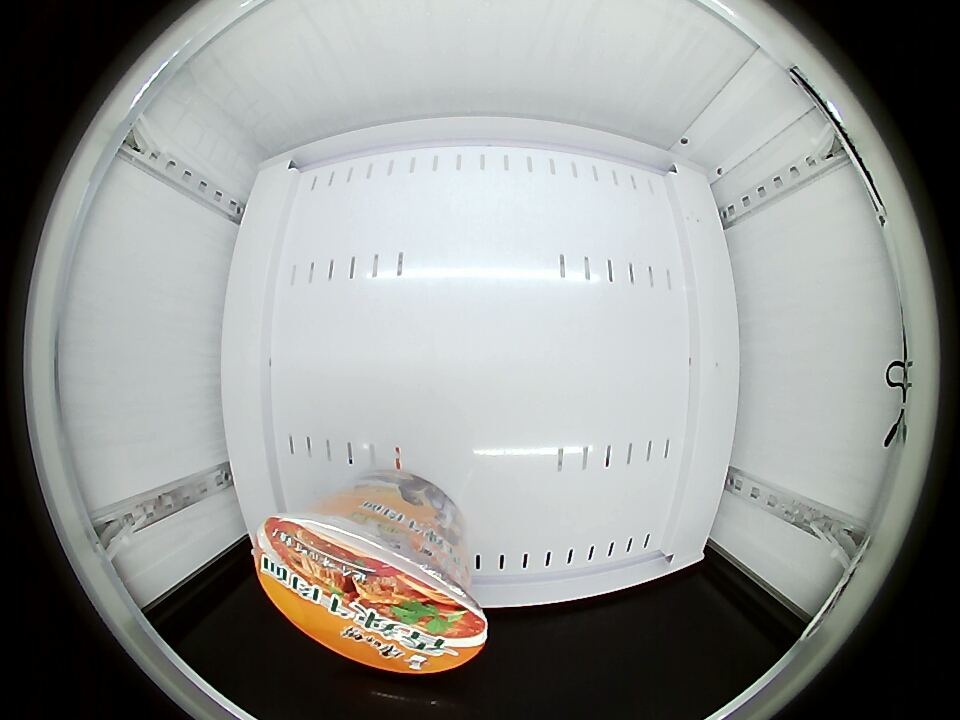xianglaniurou: (257, 512, 486, 674)
